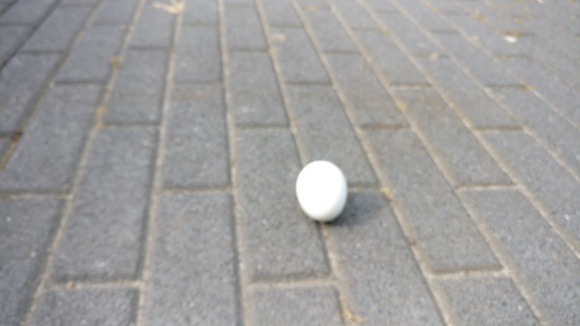egg: (296, 160, 348, 225)
